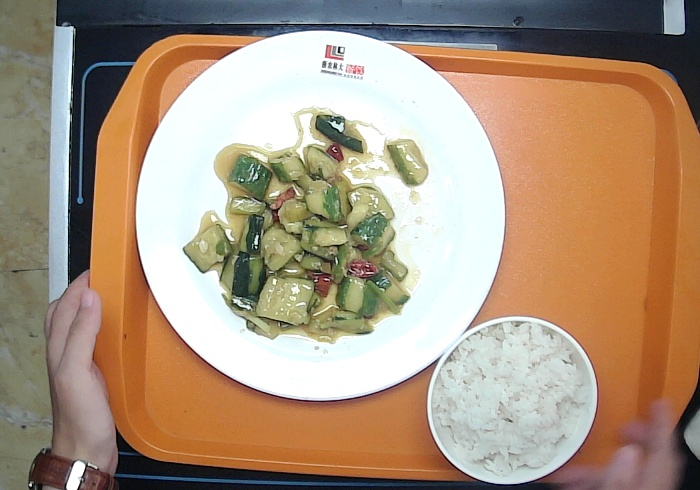ZNLD-Da_Yuan_Pan: (132, 28, 507, 402)
ZNLD-Fan_Wan: (424, 313, 600, 487)
